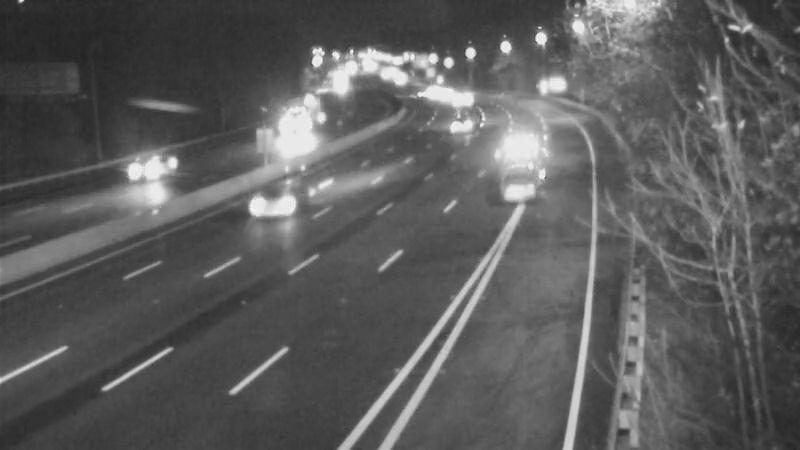vehicle: (480, 124, 560, 204), (228, 162, 308, 242), (114, 128, 194, 208), (390, 66, 440, 116), (432, 74, 482, 124), (431, 102, 481, 152), (274, 97, 324, 147)
